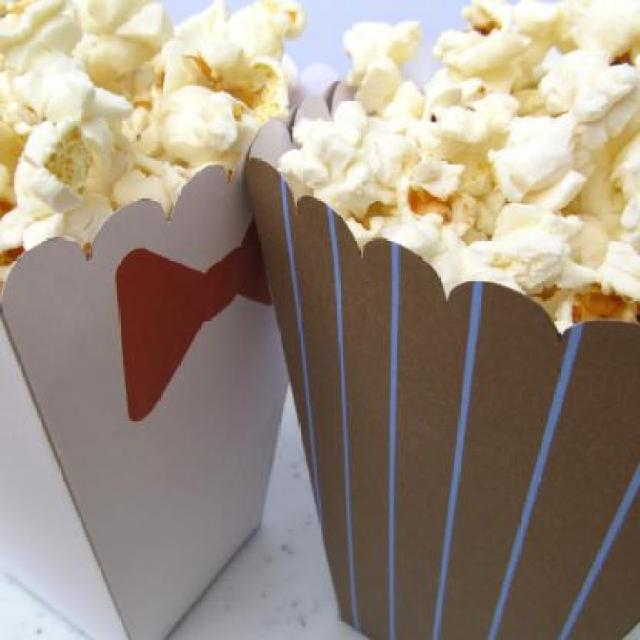Popcorn: (271, 0, 638, 337), (0, 0, 306, 291)
